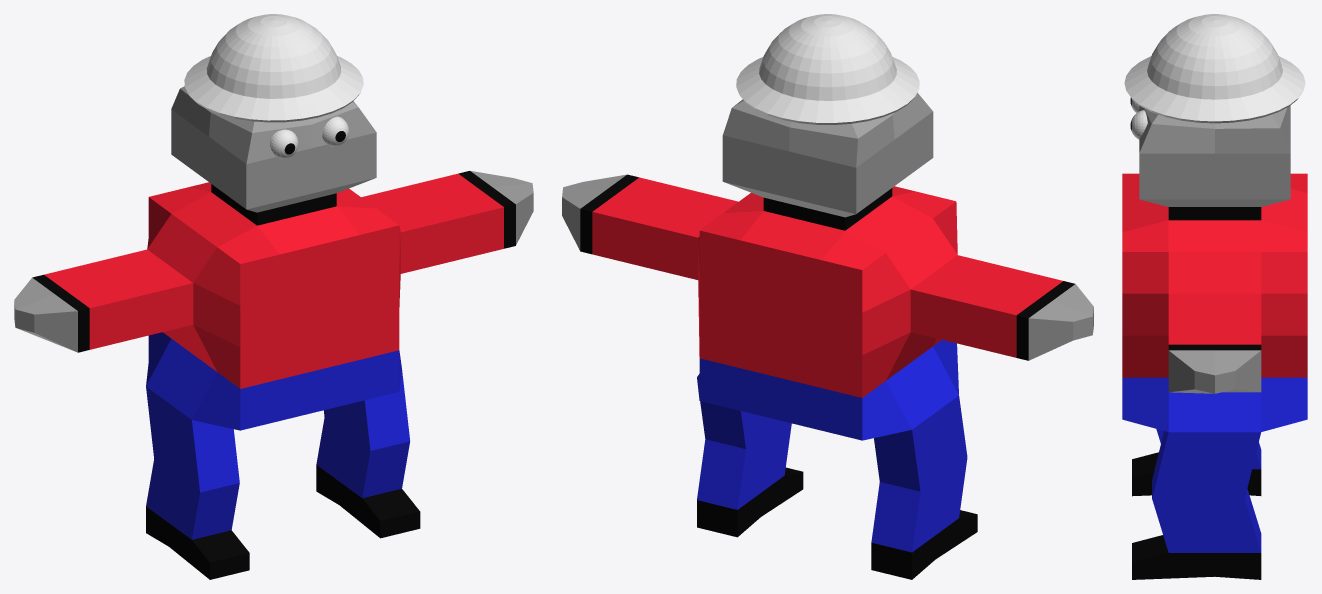
Rendered from BipedCharacter2.fbx.
3 views of the same model, side by side, from view 1: azimuth 30°, elevation 25°; view 2: azimuth 150°, elevation 25°; view 3: azimuth 270°, elevation 25° (orthographic). The views are drawn at different scales.
Parts seen in each view (by area): view 1: Robot, Hat; view 2: Robot, Hat; view 3: Robot, Hat.
Part boxes in pixels (x1,y1,x2,y2): Robot: (14,86,533,579); Hat: (184,14,363,122); Robot: (562,92,1093,579); Hat: (736,14,919,124); Robot: (1122,98,1307,579); Hat: (1124,14,1305,123).
Size of the model in its own units: 650 by 605 by 200.
